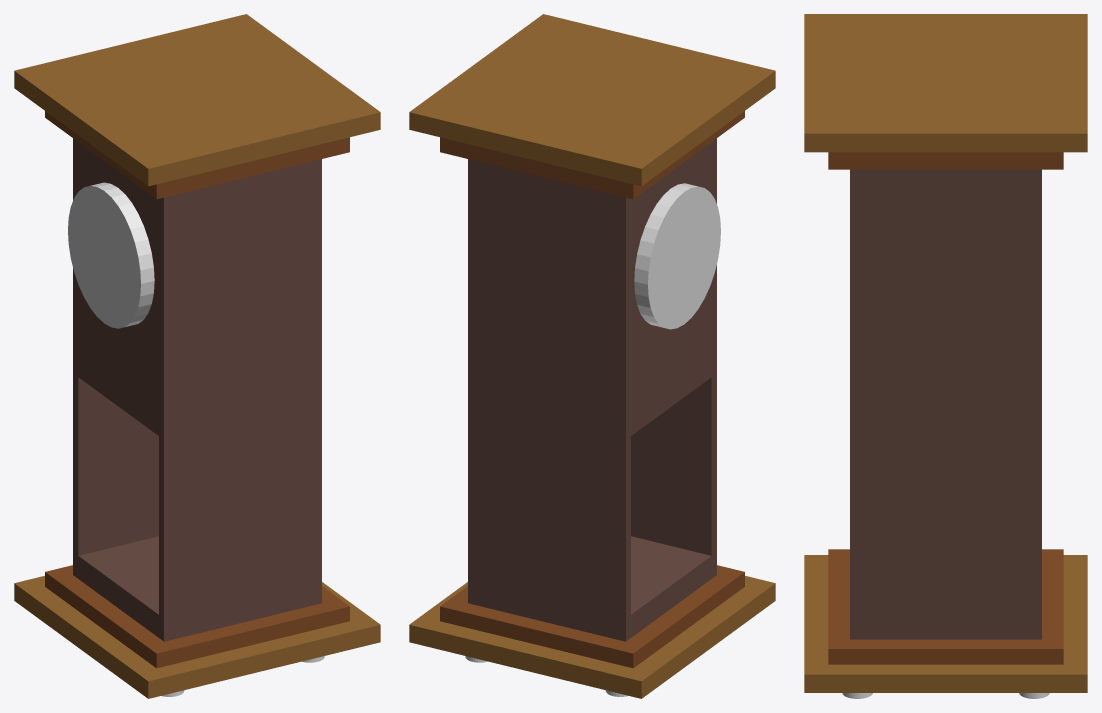
File: clock 1.fbx
3 renders of one model, left to right at view 1: azimuth 30°, elevation 25°; view 2: azimuth 150°, elevation 25°; view 3: azimuth 270°, elevation 25°, orthographic. The views are drawn at different scales.
Visible parts, largest first — view 1: Body, Cube.003, Cube.004, Clock, Cube, Cube.002; view 2: Body, Cube.003, Cube.004, Clock, Cube, Cube.002; view 3: Body, Cube.003, Cube.004, Cube, Cube.002.
Boxes of the visible parts, left/top/right/bottom form: Body: left=73, top=138, right=321, bottom=641; Cube.003: left=14, top=14, right=380, bottom=186; Cube.004: left=14, top=576, right=380, bottom=698; Clock: left=68, top=182, right=154, bottom=328; Cube: left=45, top=565, right=349, bottom=668; Cube.002: left=45, top=111, right=349, bottom=199; Body: left=468, top=138, right=716, bottom=641; Cube.003: left=409, top=14, right=775, bottom=186; Cube.004: left=409, top=576, right=775, bottom=698; Clock: left=634, top=183, right=720, bottom=329; Cube: left=440, top=565, right=744, bottom=668; Cube.002: left=440, top=111, right=744, bottom=199; Body: left=850, top=169, right=1041, bottom=639; Cube.003: left=804, top=14, right=1087, bottom=152; Cube.004: left=804, top=555, right=1087, bottom=692; Cube: left=828, top=549, right=1063, bottom=664; Cube.002: left=828, top=152, right=1063, bottom=169.
Bounding box in the file's own units: 240 × 545 × 240.
